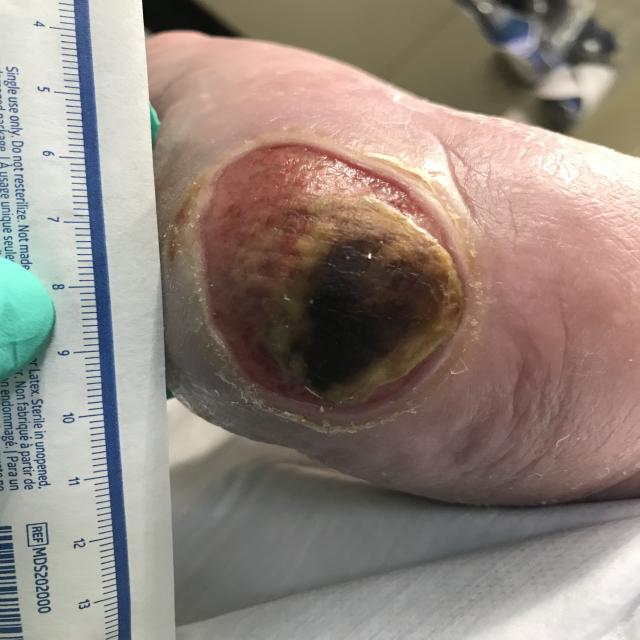Unstageable: (200, 144, 465, 406)
